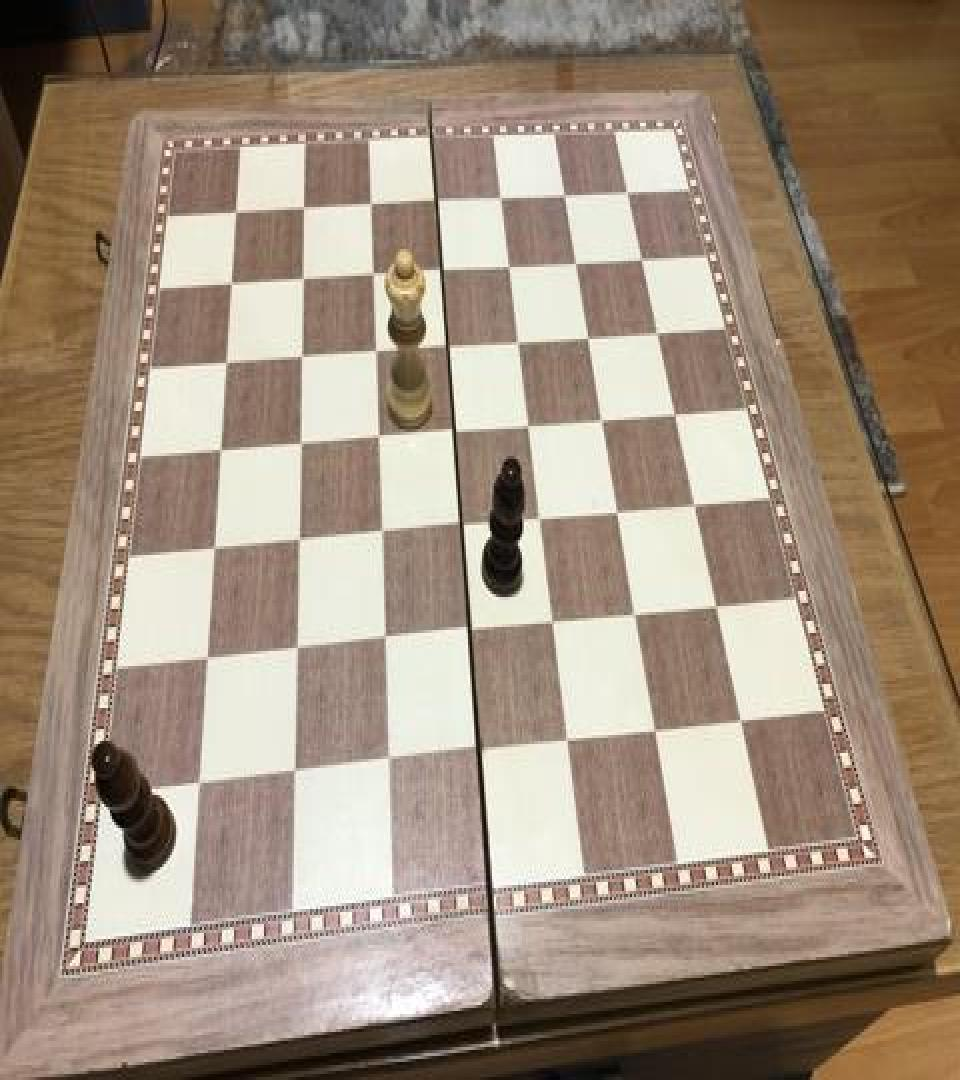xcorner: (370, 622, 394, 659), (282, 631, 306, 668), (191, 640, 215, 677), (729, 703, 753, 740), (643, 712, 667, 749), (465, 733, 489, 770), (279, 754, 303, 791), (617, 177, 641, 213), (554, 180, 578, 216), (489, 183, 513, 219), (424, 186, 448, 222), (358, 189, 382, 225), (291, 192, 315, 228), (222, 195, 246, 231), (631, 243, 655, 279), (565, 248, 589, 284), (498, 250, 522, 286), (429, 255, 453, 291), (360, 258, 384, 294), (289, 262, 313, 298), (217, 266, 241, 302), (647, 316, 671, 352), (577, 321, 601, 357), (507, 326, 531, 362), (435, 330, 459, 366), (362, 334, 386, 370), (288, 340, 312, 376), (212, 345, 236, 381), (664, 398, 688, 434), (591, 404, 615, 440), (517, 410, 541, 446), (441, 414, 465, 450), (364, 420, 388, 456), (286, 426, 310, 462), (206, 432, 230, 468), (683, 489, 707, 525), (606, 495, 630, 531), (528, 501, 552, 537), (448, 508, 472, 544), (367, 516, 391, 552), (284, 522, 308, 558), (199, 530, 223, 566), (705, 590, 729, 626), (624, 597, 648, 633), (541, 606, 565, 642), (456, 614, 480, 650), (555, 723, 579, 759), (373, 744, 397, 780), (183, 765, 207, 801)
